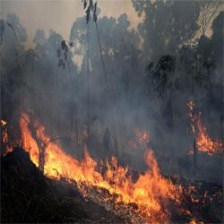fire: (21, 123, 182, 222), (188, 112, 216, 157)
smoke: (36, 1, 174, 114)
